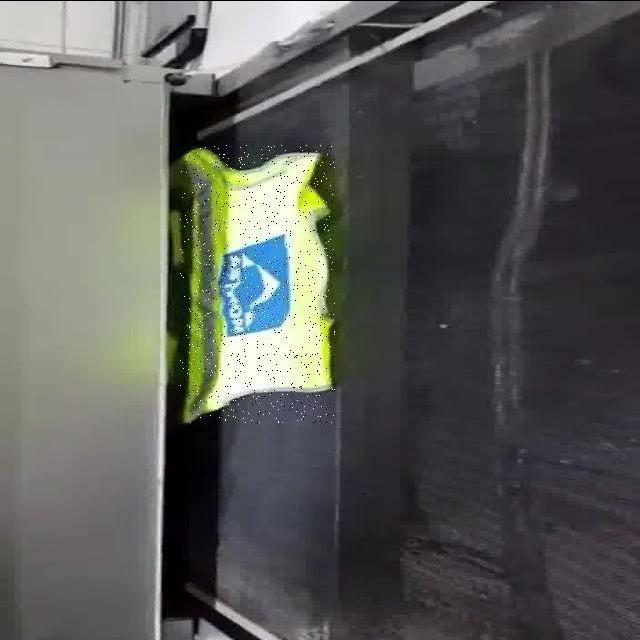vest: (180, 144, 335, 422)
